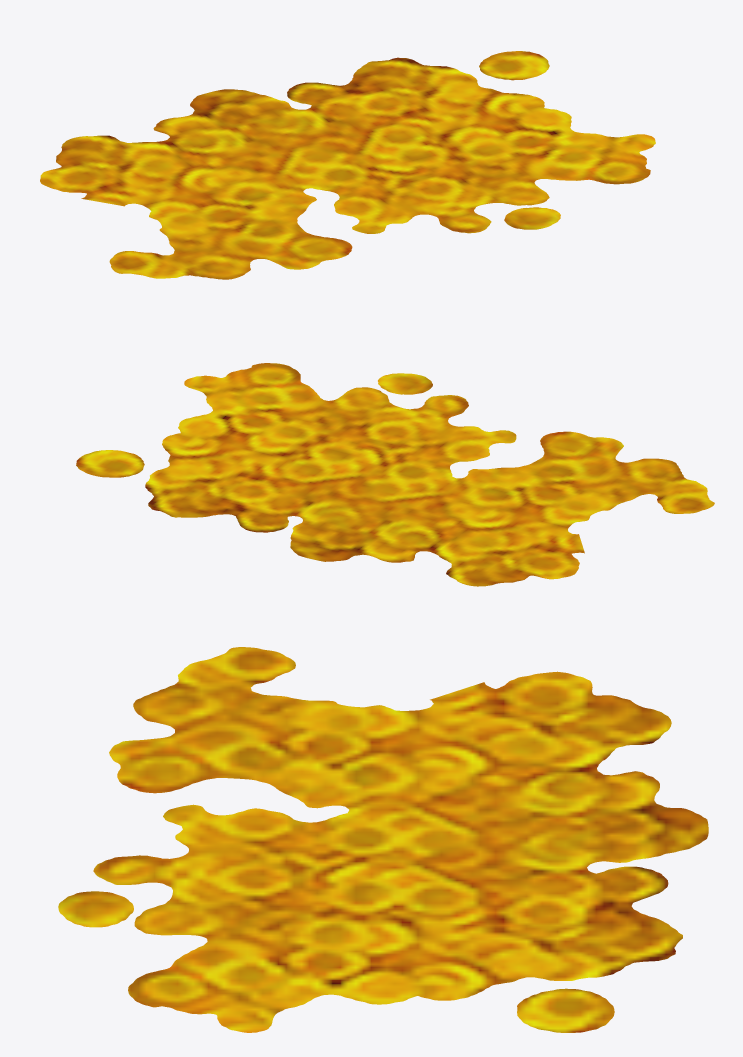
File: gold_4.FBX
The picture shows the model from 3 angles, top to bottom: view 1: azimuth 30°, elevation 25°; view 2: azimuth 150°, elevation 25°; view 3: azimuth 270°, elevation 25°; orthographic projection. The views are drawn at different scales.
Visible parts, largest first — view 1: Plane004; view 2: Plane004; view 3: Plane004.
Part boxes in pixels (left/top/right/bottom): Plane004: left=40, top=51, right=655, bottom=279; Plane004: left=76, top=363, right=714, bottom=586; Plane004: left=58, top=647, right=708, bottom=1032.
Bounding box in the file's own units: 63.99 × 2.92e-15 × 47.69.
